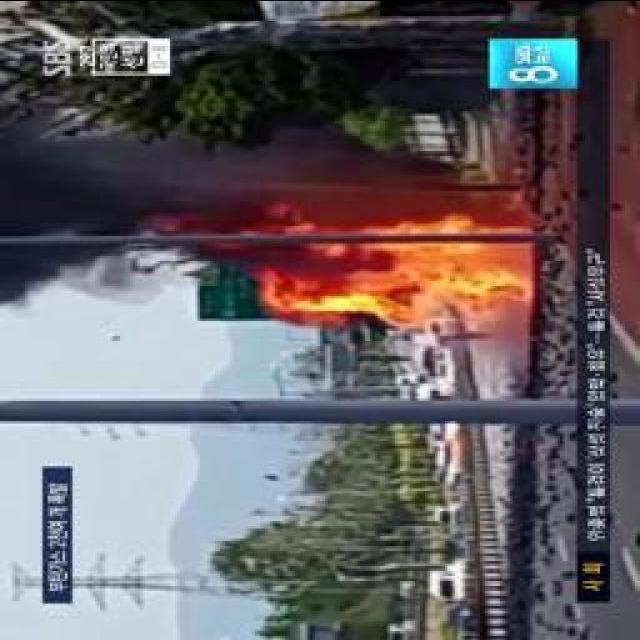Fire: (380, 224, 540, 321)
